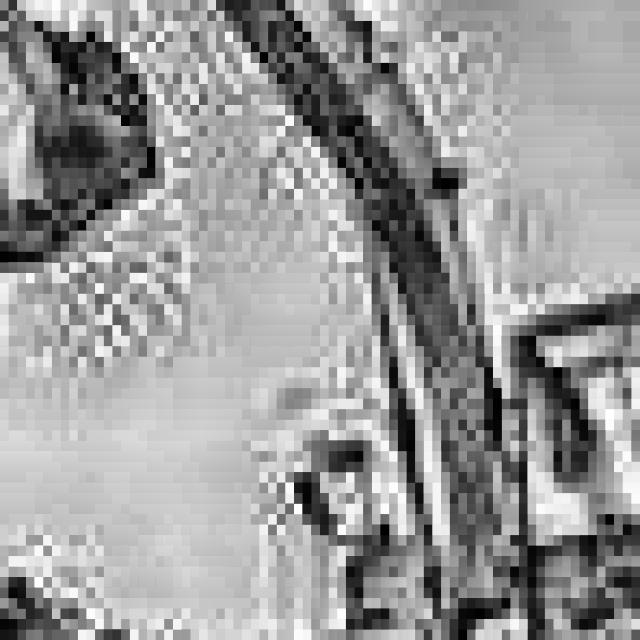excavator: (225, 220, 640, 640)
